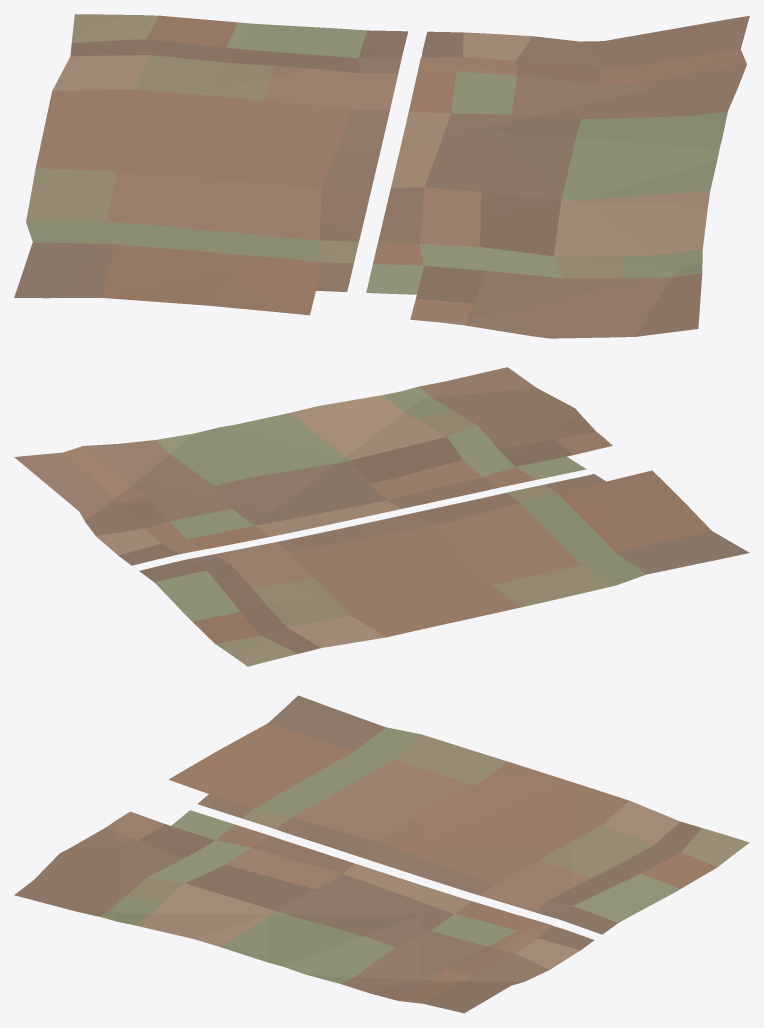
Rendered from farm_-27_-28_soil.glb.
The picture shows the model from 3 angles, top to bottom: view 1: azimuth 30°, elevation 25°; view 2: azimuth 150°, elevation 25°; view 3: azimuth 270°, elevation 25°; orthographic projection. The views are drawn at different scales.
Parts seen in each view (by area): view 1: geometry_0; view 2: geometry_0; view 3: geometry_0.
Part boxes in pixels (x1,y1,x2,y2): geometry_0: (14, 14, 749, 338); geometry_0: (14, 367, 749, 666); geometry_0: (14, 695, 749, 1013).
Size of the model in its own units: 393 by 11.32 by 387.
